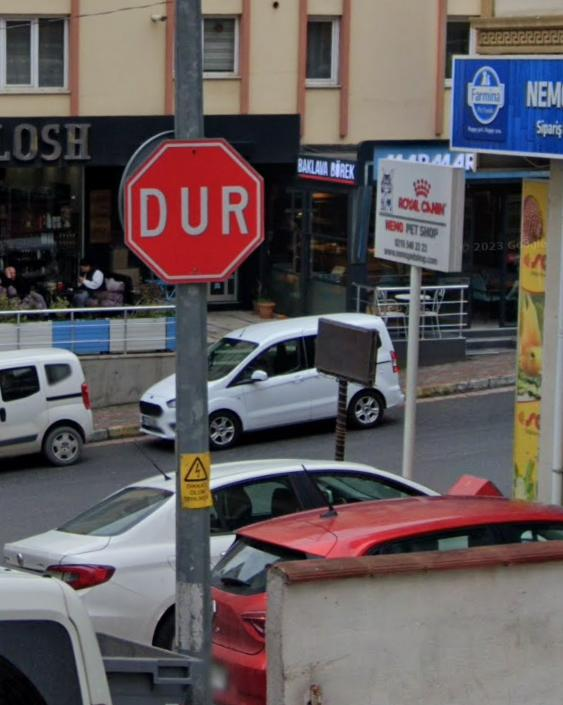stop: (122, 138, 263, 280)
